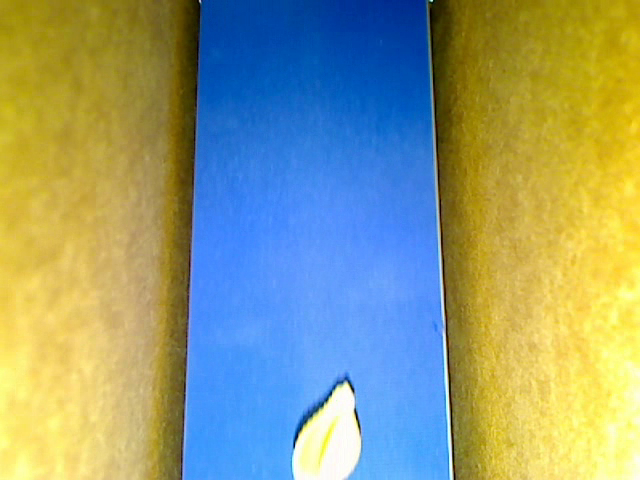shell: (290, 382, 362, 479)
